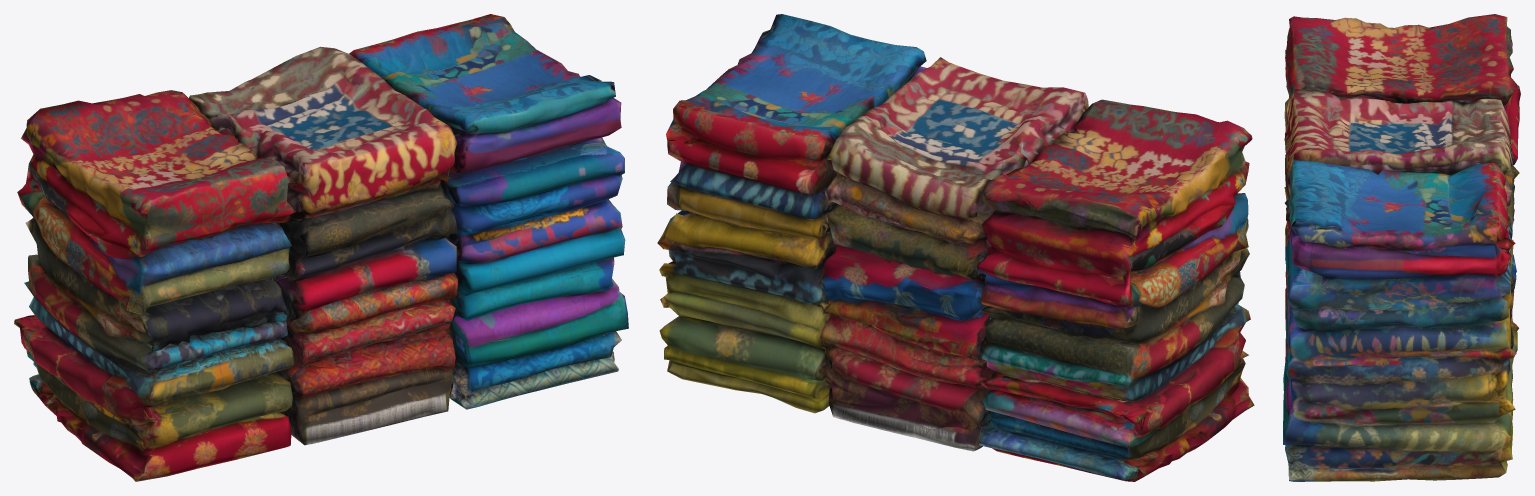
The model's file is saree_1.glb.
3 renders of one model, left to right at view 1: azimuth 30°, elevation 25°; view 2: azimuth 150°, elevation 25°; view 3: azimuth 270°, elevation 25°, orthographic. The views are drawn at different scales.
Size of the model in its own units: 2 by 1.11 by 0.9142.
1 material, 1 textured.
